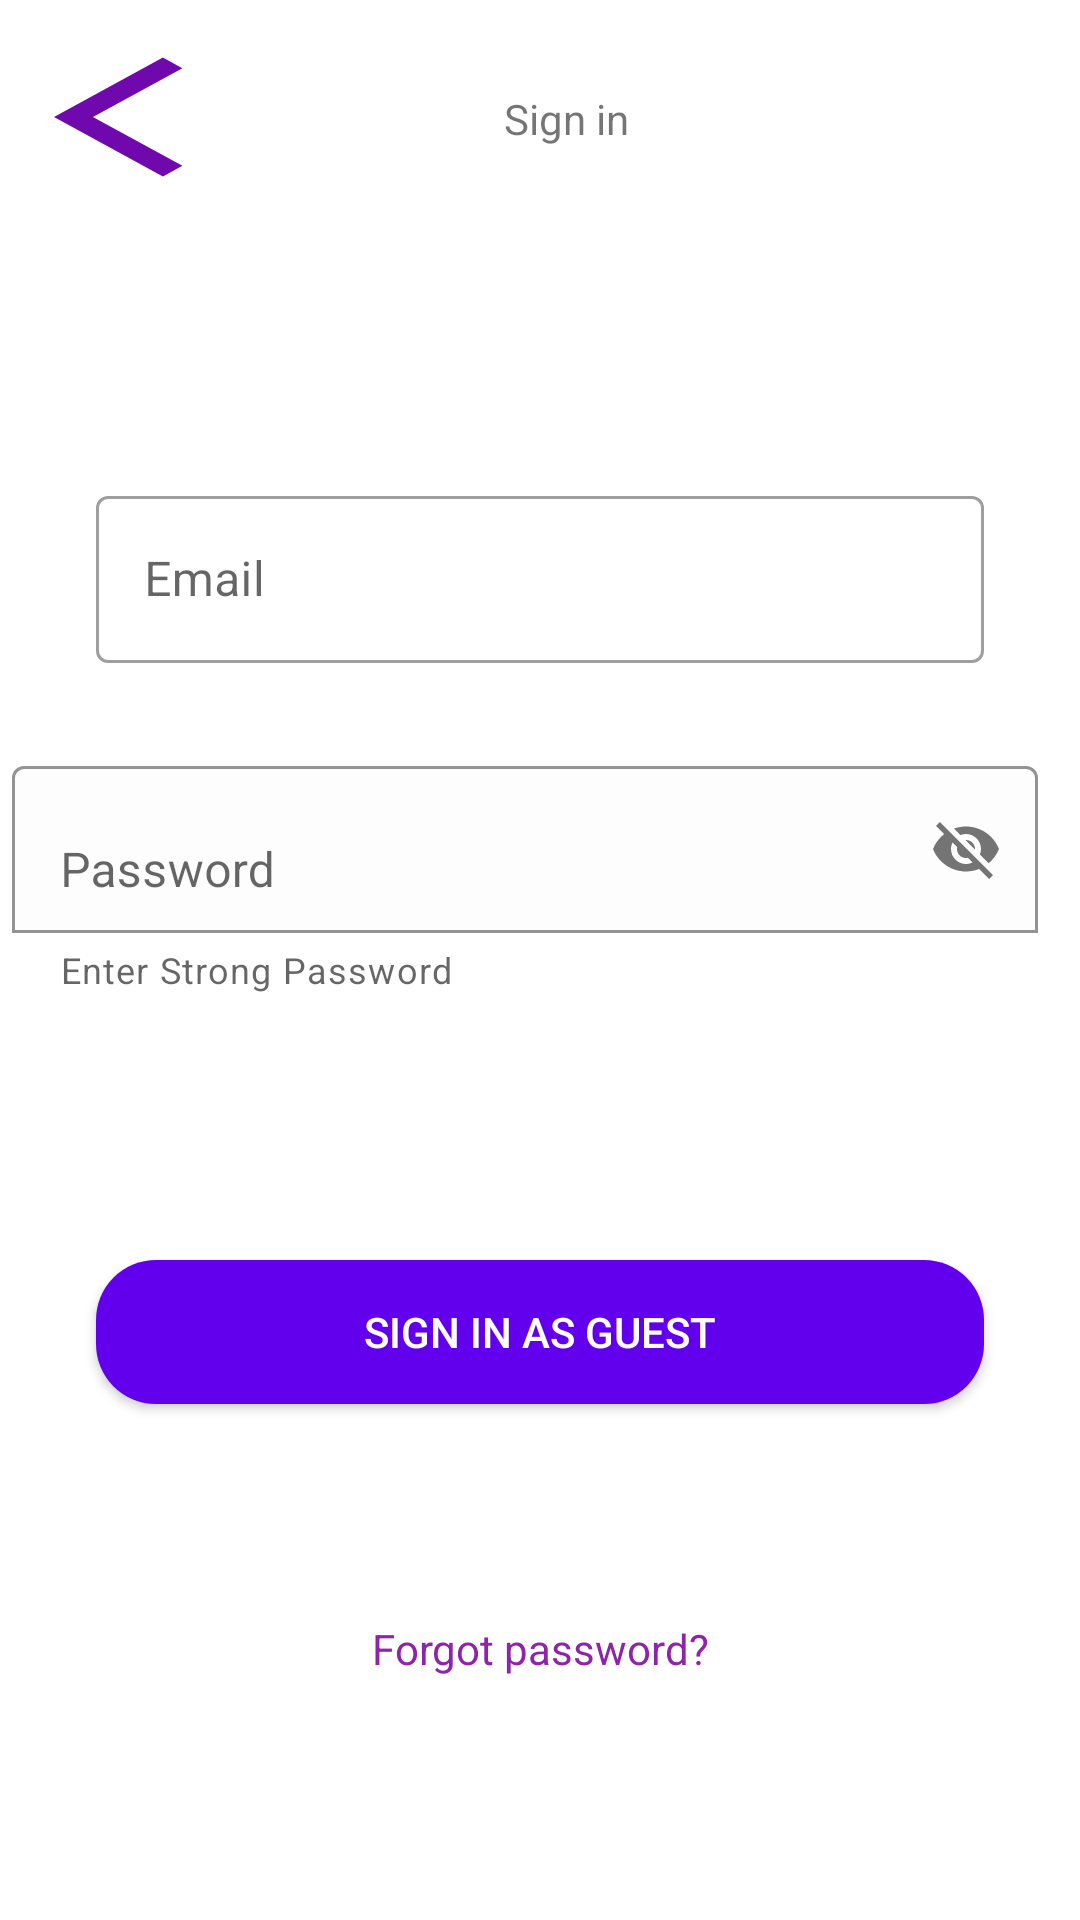

Screen size 1080x1920. Icon name, then its box in pixels as (x1, y1, x2, y2):
arrow back: (54, 57, 182, 177)
